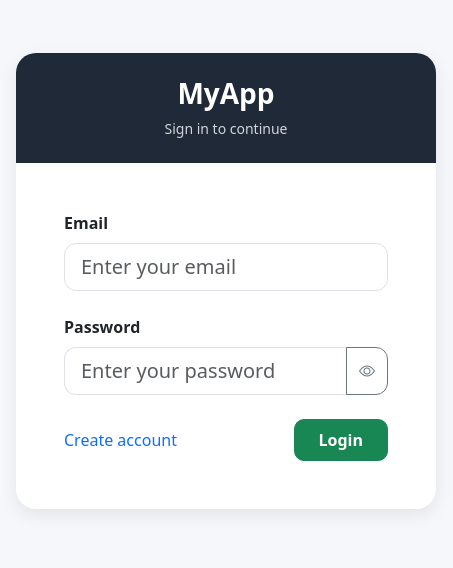
Scenario: Login › 500エラー表示
Step 1. Type "test@example.com" into the field with placeholder "Enter your email" → [226, 267], box [64,243,388,291]
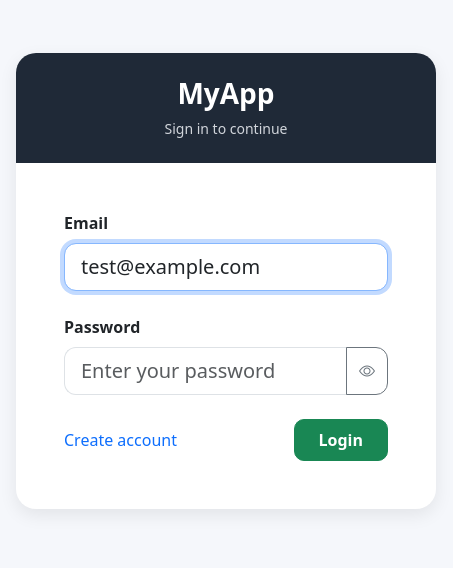
Step 2. Type "password" into the password field with placeholder "Enter your password" → [206, 371], box [64,347,347,395]
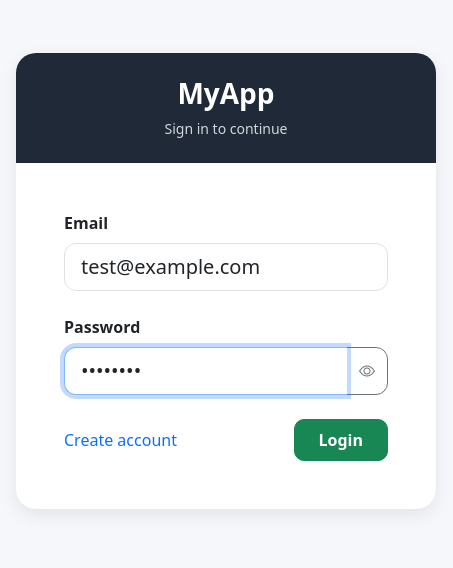
Step 3. Click the button "Login" → [341, 440], box [294,419,388,461]
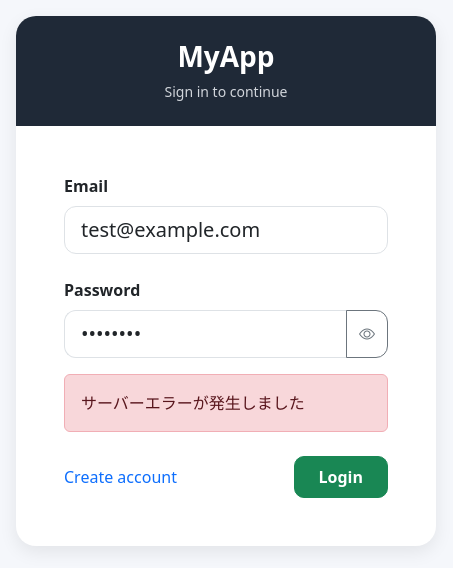
Expected: the text "サーバーエラーが発生しました" is shown, [64,374,388,432]
